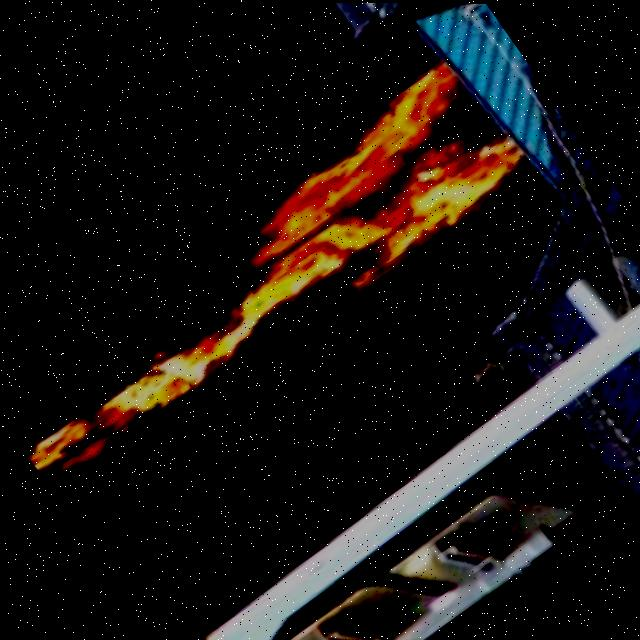Fire: (0, 51, 533, 503)
